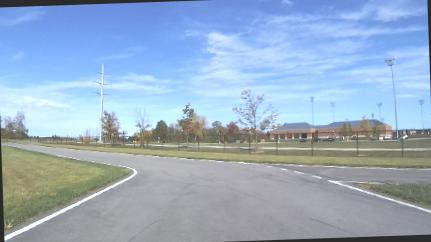Grass: (1, 146, 130, 230), (33, 143, 430, 168), (259, 143, 430, 158), (361, 184, 430, 206)
Lane: (3, 143, 430, 241)
